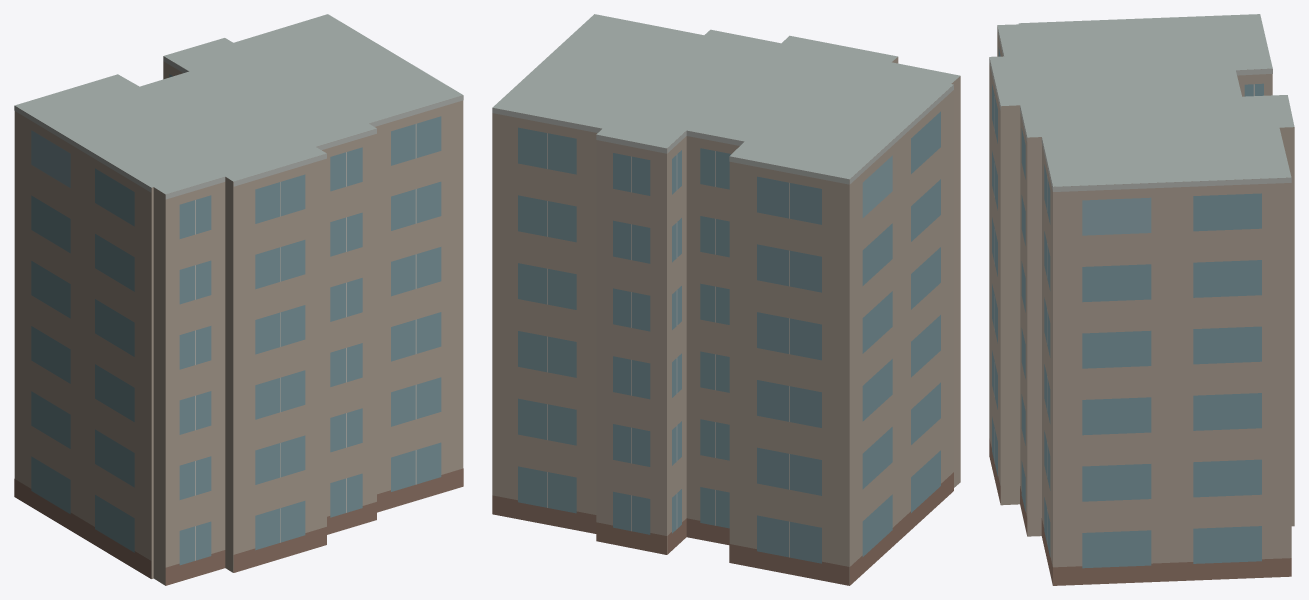
File: survey-upis-32569623.glb
3 renders of one model, left to right at view 1: azimuth 30°, elevation 25°; view 2: azimuth 150°, elevation 25°; view 3: azimuth 270°, elevation 25°, orthographic. The views are drawn at different scales.
Visible parts, largest first — view 1: survey-upis-32569623.tmp; view 2: survey-upis-32569623.tmp; view 3: survey-upis-32569623.tmp.
Part boxes in pixels (<box>): survey-upis-32569623.tmp: <box>14,14,463,585</box>; survey-upis-32569623.tmp: <box>492,14,960,585</box>; survey-upis-32569623.tmp: <box>989,14,1294,585</box>.
Size of the model in its own units: 17.1 by 18.4 by 12.76.
